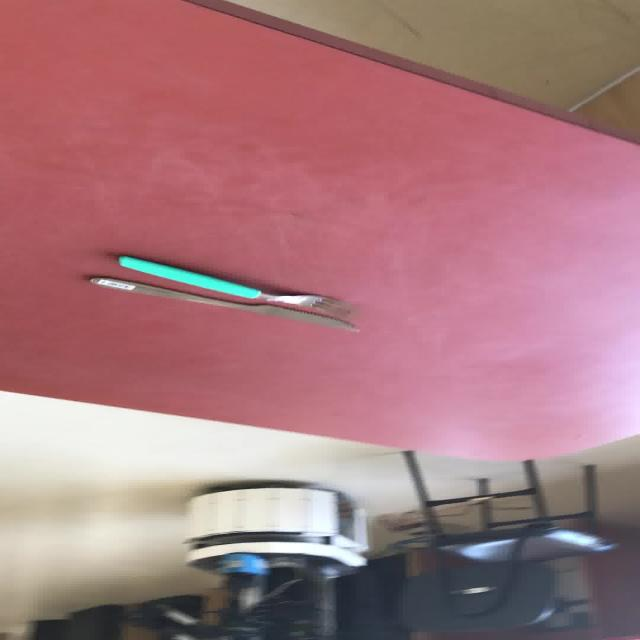fork: (115, 254, 352, 312)
knife fork: (114, 253, 353, 318), (87, 275, 359, 332)
